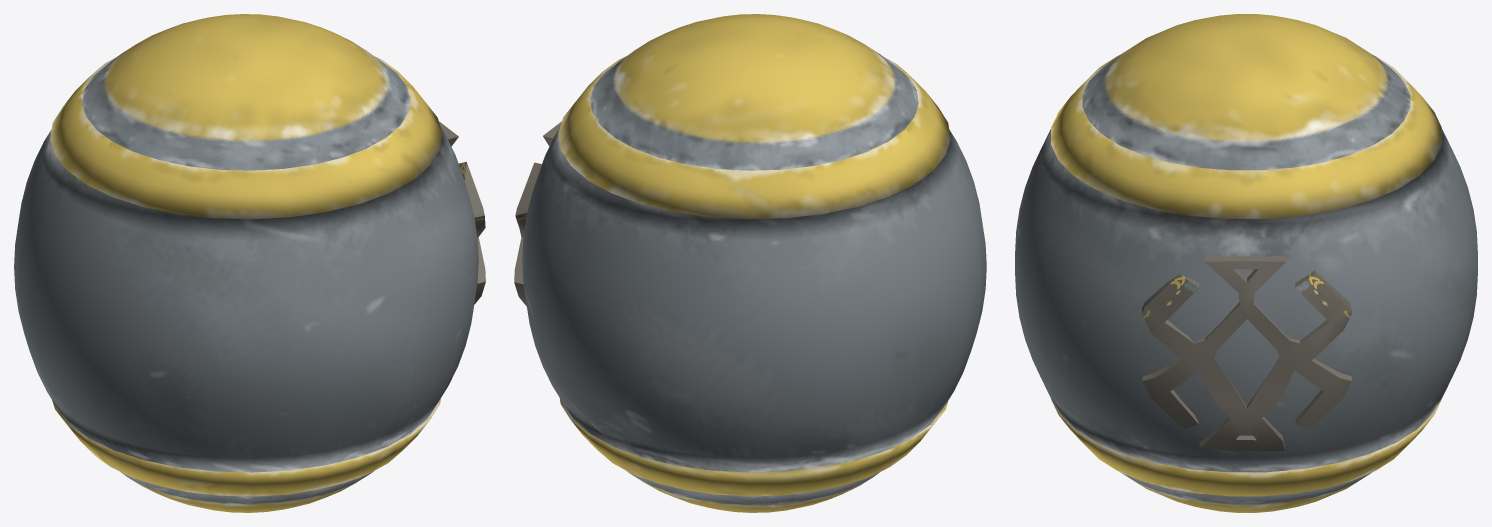
File: Artefacto.fbx
3 views of the same model, side by side, from view 1: azimuth 30°, elevation 25°; view 2: azimuth 150°, elevation 25°; view 3: azimuth 270°, elevation 25° (orthographic).
Visible parts, largest first — view 1: cuerpo .001, cuerpo .002; view 2: cuerpo .001, cuerpo .002; view 3: cuerpo .001, cuerpo .002.
Part boxes in pixels (<box>): cuerpo .001: <box>14,14,478,512</box>; cuerpo .002: <box>439,121,485,304</box>; cuerpo .001: <box>522,14,986,512</box>; cuerpo .002: <box>514,121,561,306</box>; cuerpo .001: <box>1015,14,1477,512</box>; cuerpo .002: <box>1142,255,1352,451</box>.
Size of the model in its own units: 33.94 by 36.81 by 33.87.
